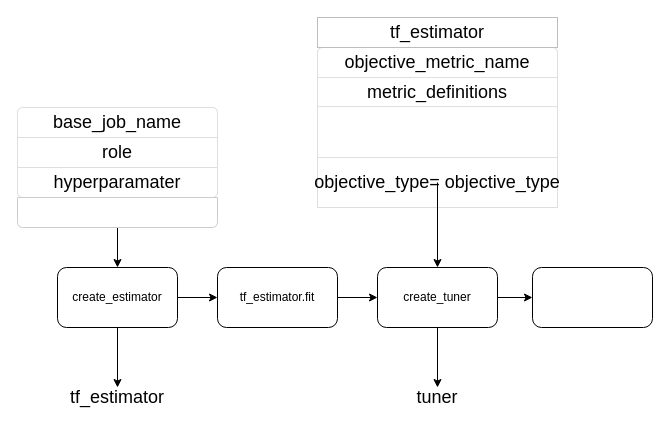
The diagram is 670 pixels wide and 426 high, and some of its shapes have lost their labels. Each missing label, with the centre of its shape:
bucket_name: the point at 117,212
hyperparameter_ranges: the point at 437,132
tuner.fit: the point at 592,297
